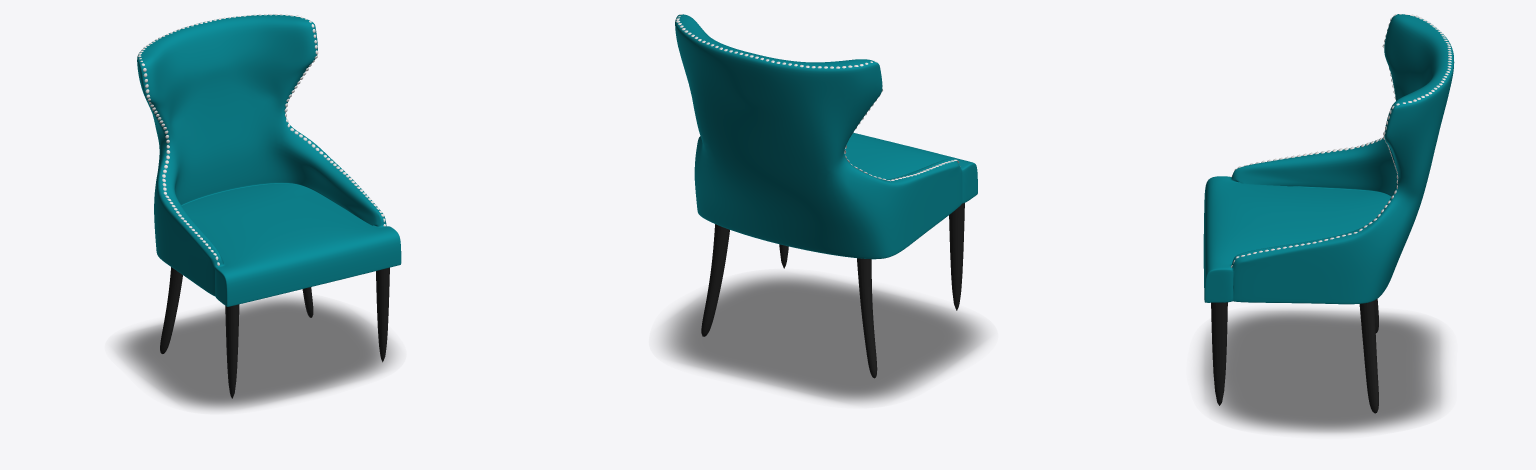
Rendered from velvet-chair4.glb.
The picture shows the model from 3 angles, left to right: view 1: azimuth 30°, elevation 25°; view 2: azimuth 150°, elevation 25°; view 3: azimuth 270°, elevation 25°; orthographic projection. The views are drawn at different scales.
Visible parts, largest first — view 1: furniture_02.001, Untitled-1, furniture_02, Sphere; view 2: furniture_02.001, Untitled-1, furniture_02, Sphere; view 3: furniture_02.001, Untitled-1, furniture_02, Sphere.
Part boxes in pixels (x1,y1,x2,y2): furniture_02.001: [137, 14, 401, 306]; Untitled-1: [116, 297, 394, 409]; furniture_02: [160, 267, 389, 398]; Sphere: [138, 14, 386, 265]; furniture_02.001: [675, 14, 977, 259]; Untitled-1: [662, 274, 984, 402]; furniture_02: [701, 203, 964, 378]; Sphere: [676, 14, 960, 181]; furniture_02.001: [1203, 14, 1454, 304]; Untitled-1: [1198, 309, 1444, 433]; furniture_02: [1211, 299, 1378, 413]; Sphere: [1231, 14, 1451, 267].
Bounding box in the file's own units: 0.9888 × 0.8747 × 0.9888.
4 materials, 1 textured.
